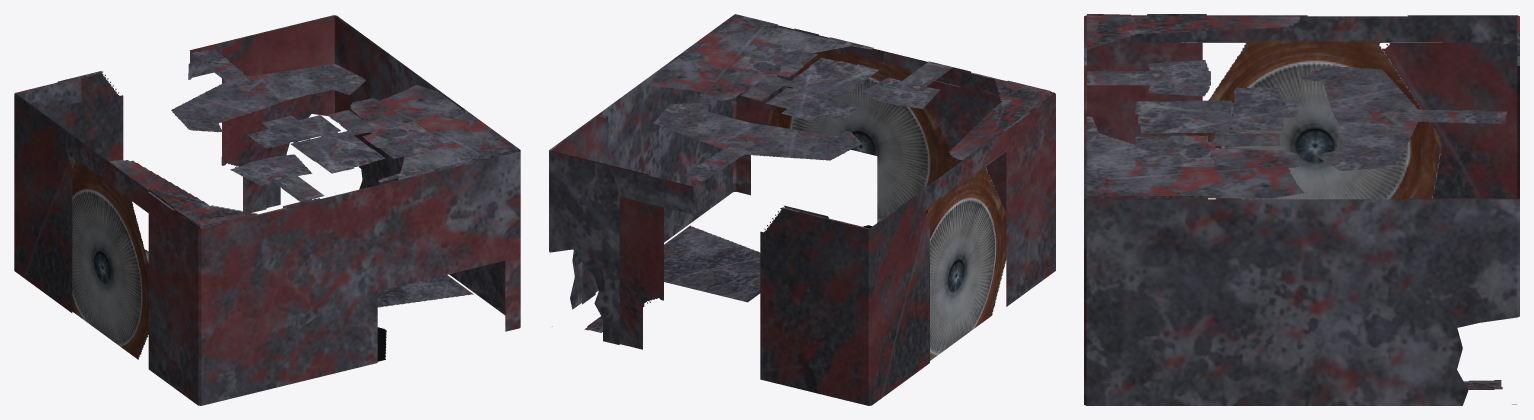
File: Warehouse.dae
3 views of the same model, side by side, from view 1: azimuth 30°, elevation 25°; view 2: azimuth 150°, elevation 25°; view 3: azimuth 270°, elevation 25° (orthographic). The views are drawn at different scales.
Parts seen in each view (by area): view 1: pPlane10; view 2: pPlane10; view 3: pPlane10.
Part boxes in pixels (x1=…): pPlane10: x1=14, y1=15, x2=520, y2=405; pPlane10: x1=549, y1=14, x2=1055, y2=405; pPlane10: x1=1084, y1=14, x2=1519, y2=405.
Size of the model in its own units: 75.93 by 40.19 by 75.97.
